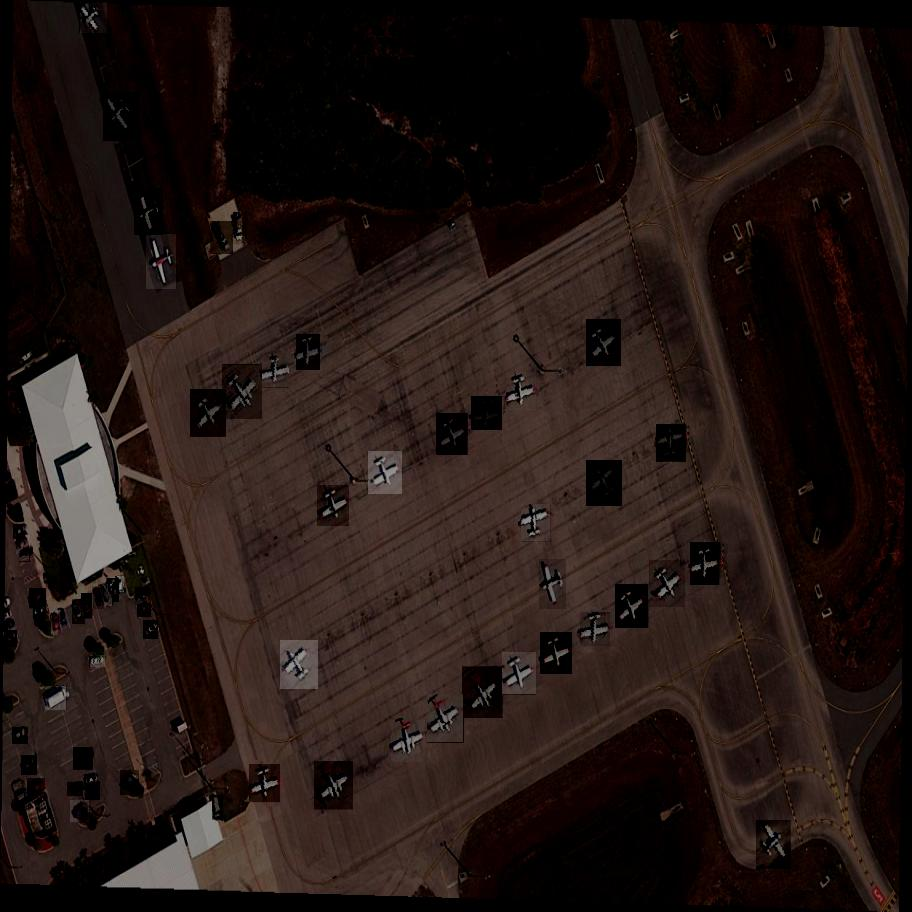large-vehicle: (211, 221, 235, 254), (44, 686, 73, 711), (233, 212, 247, 243), (212, 796, 223, 820)
plane: (216, 365, 270, 419), (458, 667, 507, 719), (421, 695, 471, 743), (186, 389, 234, 437), (581, 319, 628, 367), (645, 560, 692, 607), (276, 640, 321, 689), (311, 762, 356, 810), (582, 461, 628, 506), (100, 92, 142, 141), (754, 820, 794, 869), (145, 234, 179, 289), (613, 584, 652, 628), (366, 451, 405, 495), (500, 652, 538, 695), (435, 413, 472, 456), (390, 720, 427, 762), (538, 632, 574, 674), (133, 188, 165, 235), (538, 559, 568, 609), (316, 486, 352, 526), (690, 542, 721, 585), (575, 613, 615, 646), (255, 355, 295, 388), (249, 764, 283, 802), (506, 372, 538, 411), (471, 395, 502, 431), (521, 505, 551, 541), (657, 424, 685, 461), (80, 0, 110, 34), (296, 335, 319, 369)
small-vehicle: (118, 771, 142, 795), (74, 748, 98, 771), (69, 800, 91, 822), (83, 781, 104, 801), (28, 589, 49, 609), (19, 756, 39, 776), (97, 583, 114, 606), (71, 600, 87, 624), (27, 778, 49, 795), (143, 621, 161, 641), (136, 599, 156, 617), (14, 535, 33, 553), (11, 727, 31, 744), (134, 587, 154, 604), (81, 594, 94, 619), (107, 579, 121, 602), (2, 631, 21, 647), (92, 586, 105, 609), (20, 349, 37, 366), (11, 524, 28, 539), (67, 782, 85, 796), (32, 607, 49, 620), (89, 656, 107, 668), (57, 609, 68, 627), (84, 774, 99, 786), (51, 612, 58, 635), (116, 577, 125, 593), (19, 549, 29, 561)
